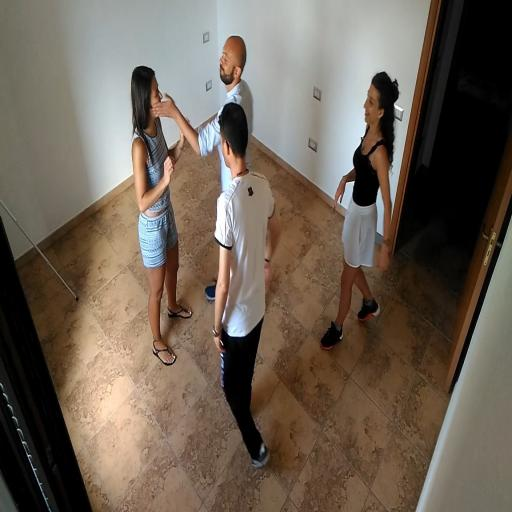bater: (118, 20, 276, 317)
